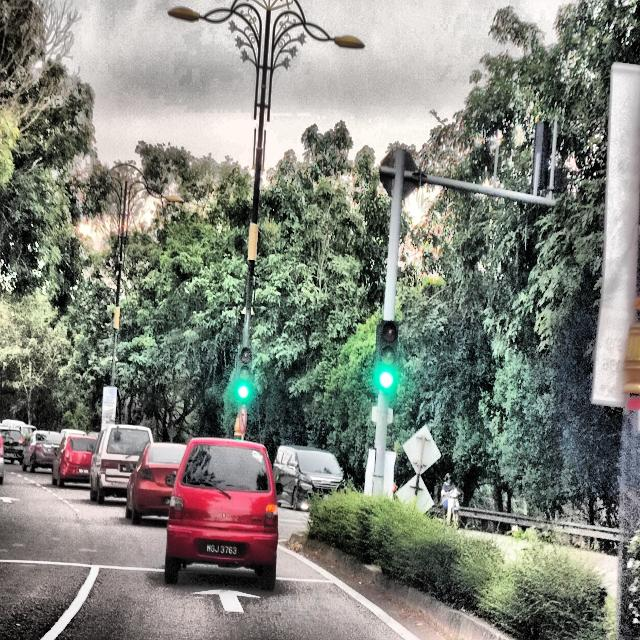green: (375, 319, 398, 393), (235, 346, 252, 401)
